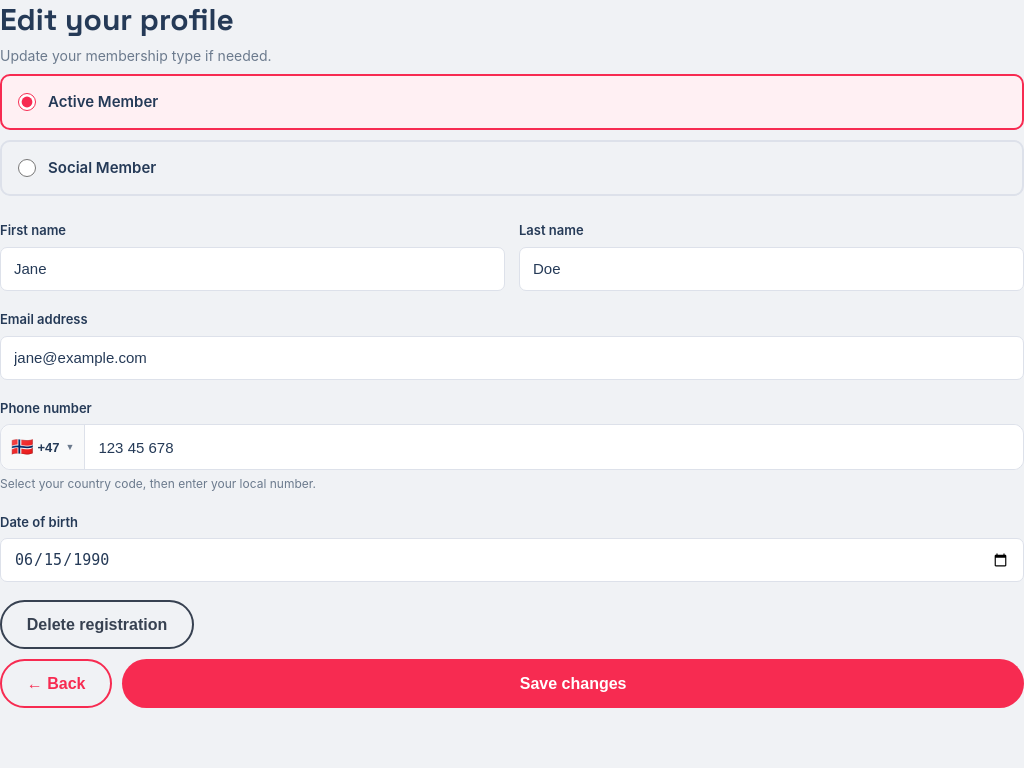
Test: ManageRegistration — delete modal (edit mode) › closes the modal on Cancel
What coordinates should you click on to do the following:
click the button "Delete registration"
I would click on:
 (97, 625)
Its box is [0,600,194,649].
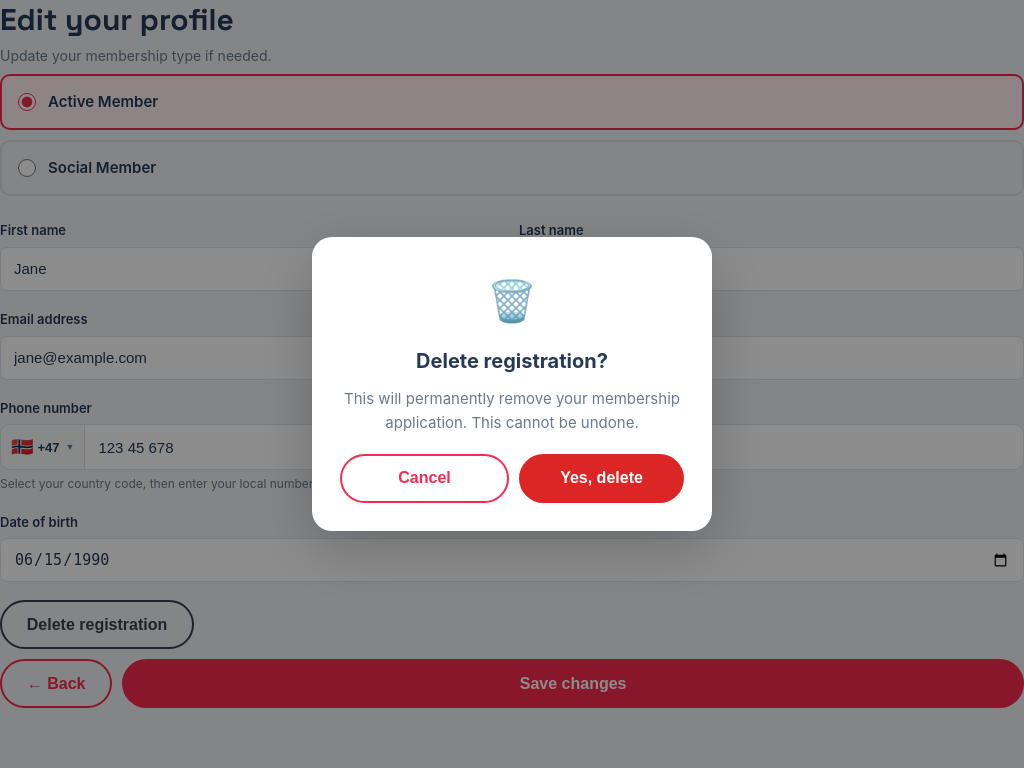
What coordinates should you click on to do the following:
click the button "Cancel"
I would click on:
 (424, 478)
Its box is [340,454,509,503].
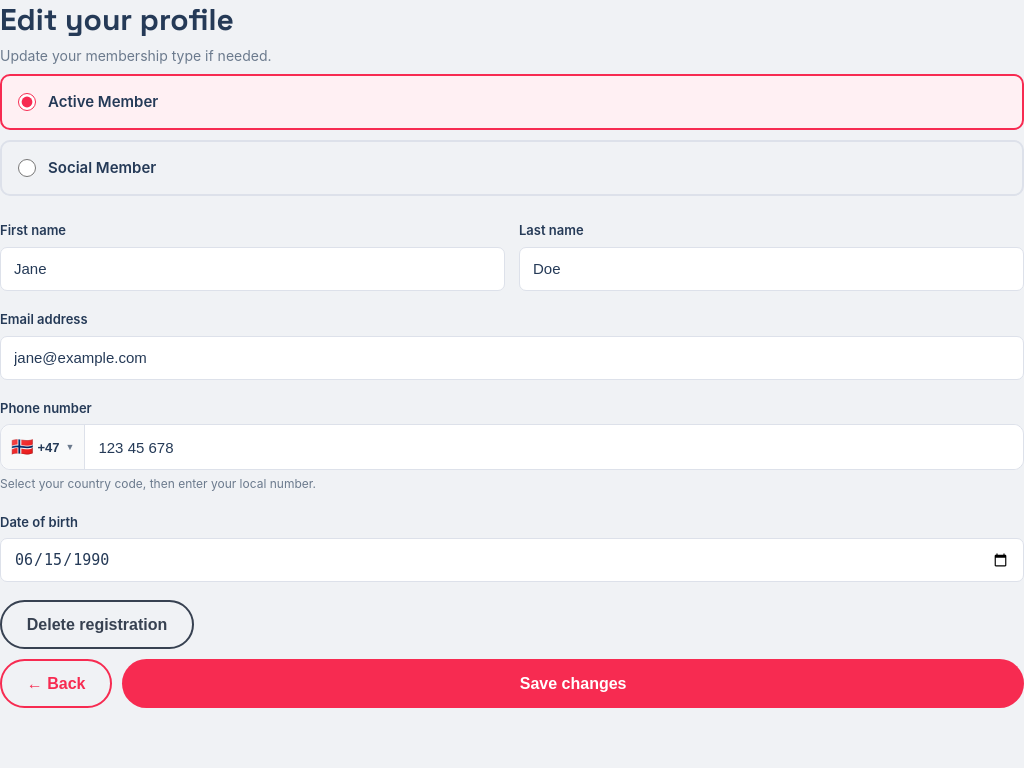
Check: the dialog is gone
